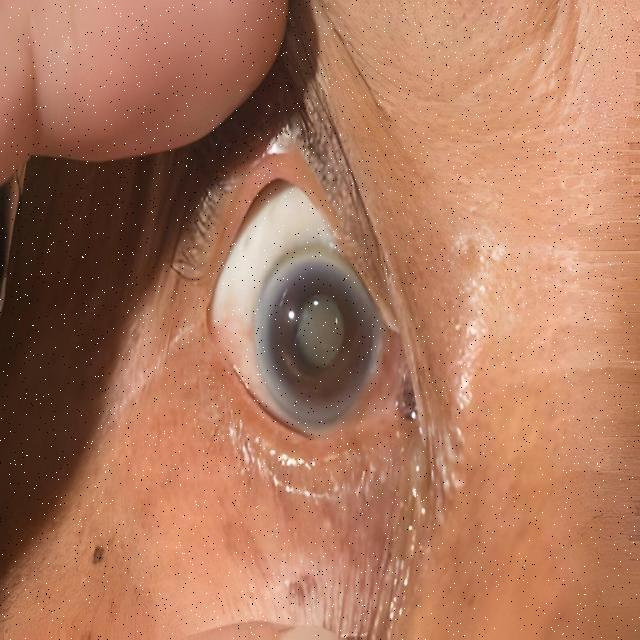Cataract: (245, 234, 392, 443)
